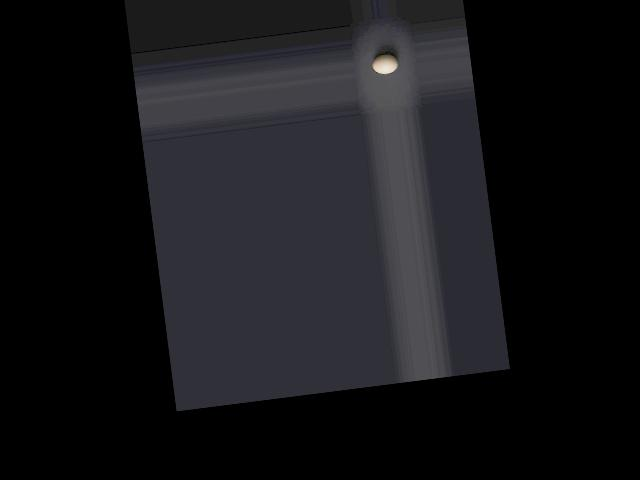egg: (370, 54, 399, 75)
